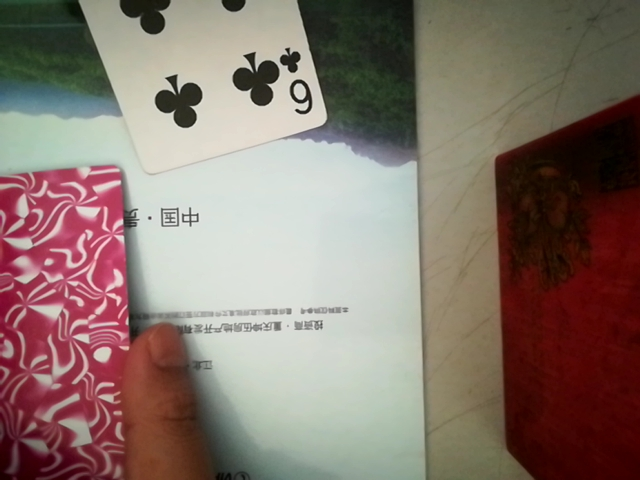mh 6: (53, 0, 323, 175)
